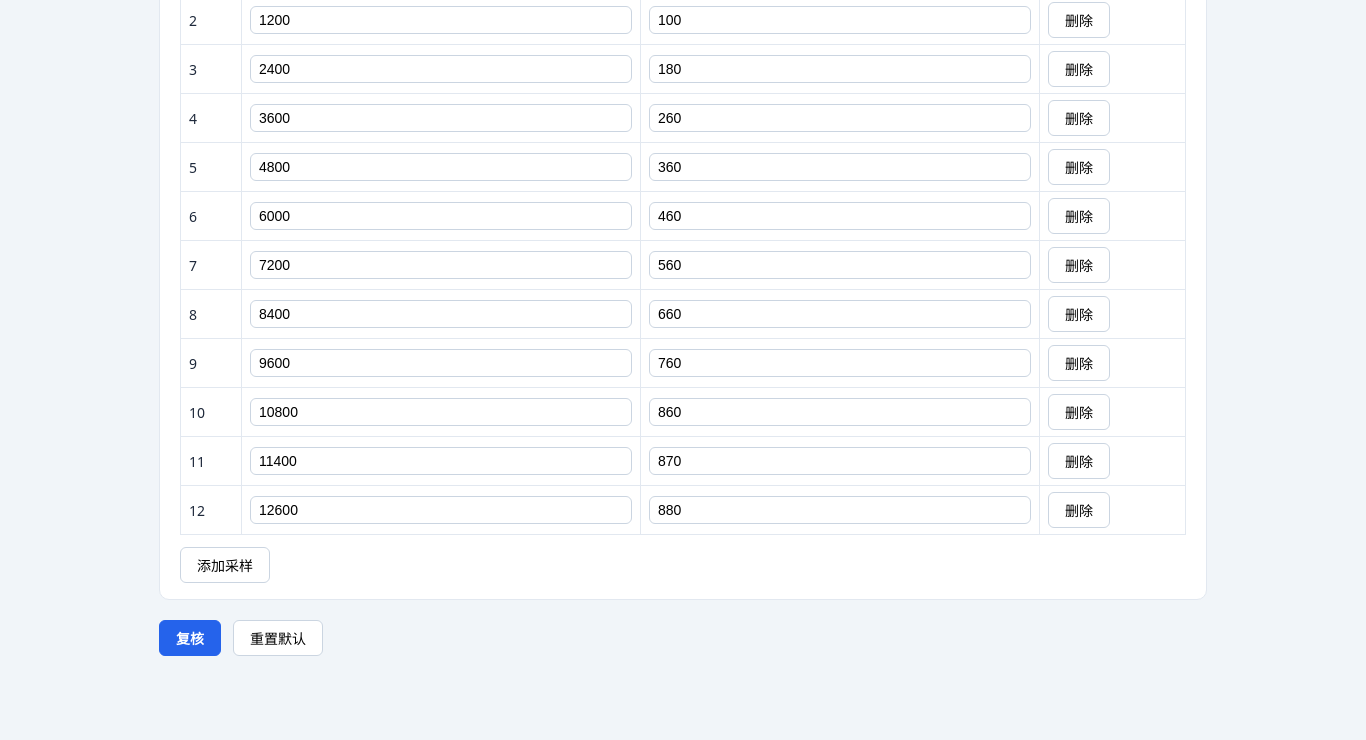
it: 热暴露复核 › 热暴露复核未返回时重新裁决：迟到的旧报告不覆盖新结果区
(page scrolled)
Click the button with test id "adjudicate-button" at [190, 638], box [159, 620, 221, 656]
(page scrolled)
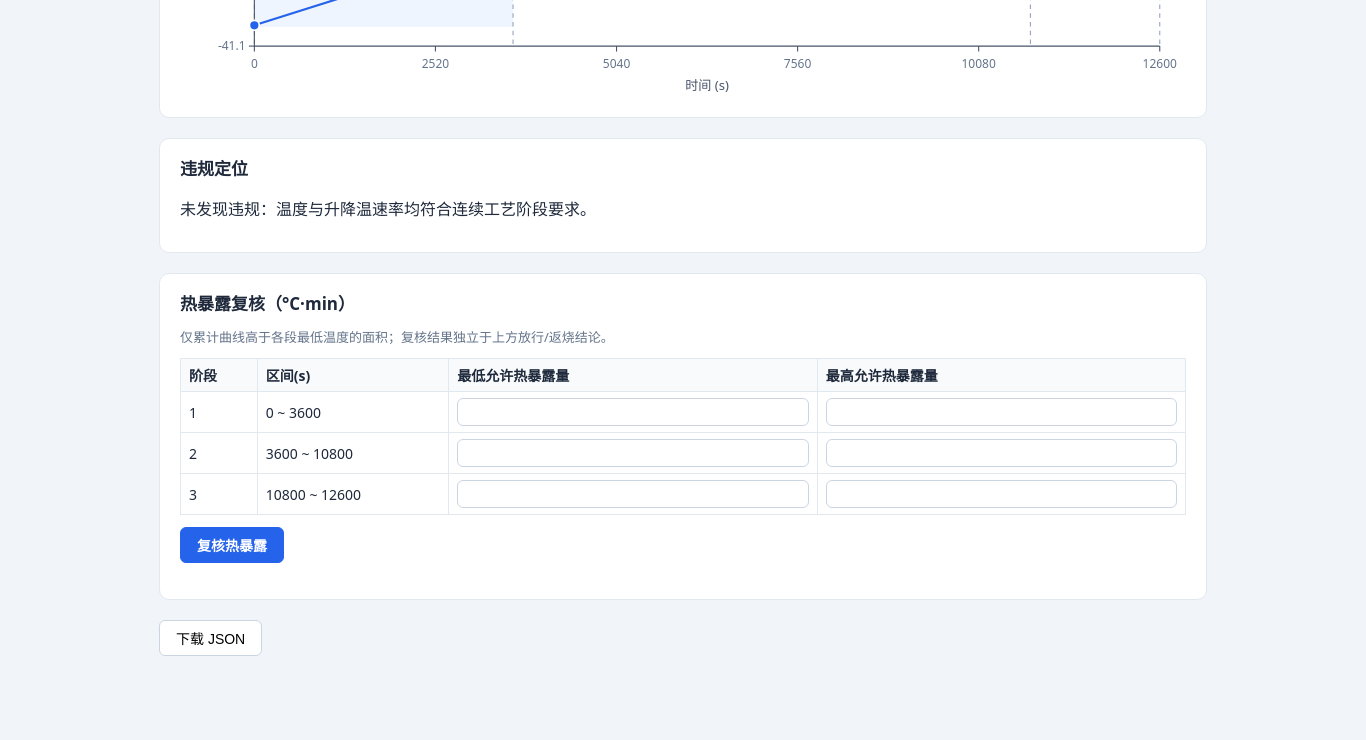
Click the button with test id "exposure-button" at [232, 545], box [180, 527, 284, 563]
(page scrolled)
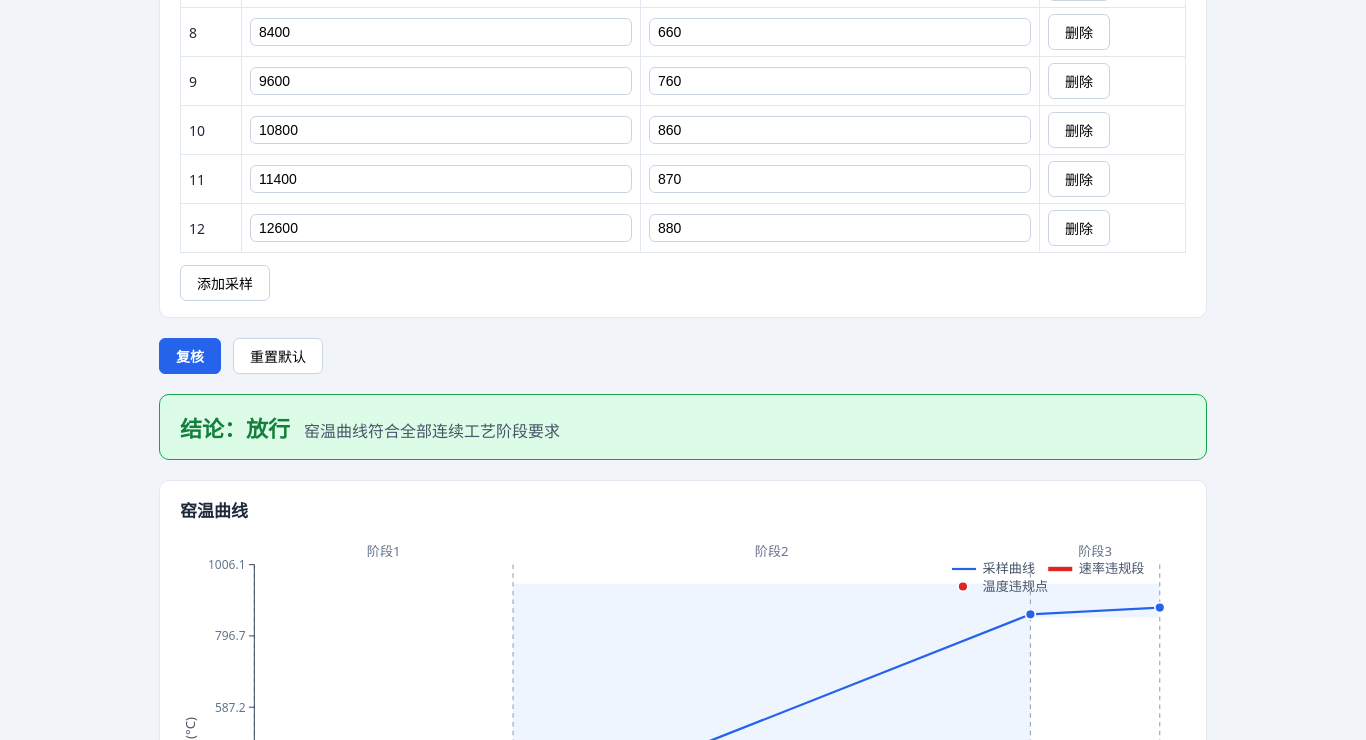
Click the button with test id "adjudicate-button" at [190, 356], box [159, 338, 221, 374]
(page scrolled)
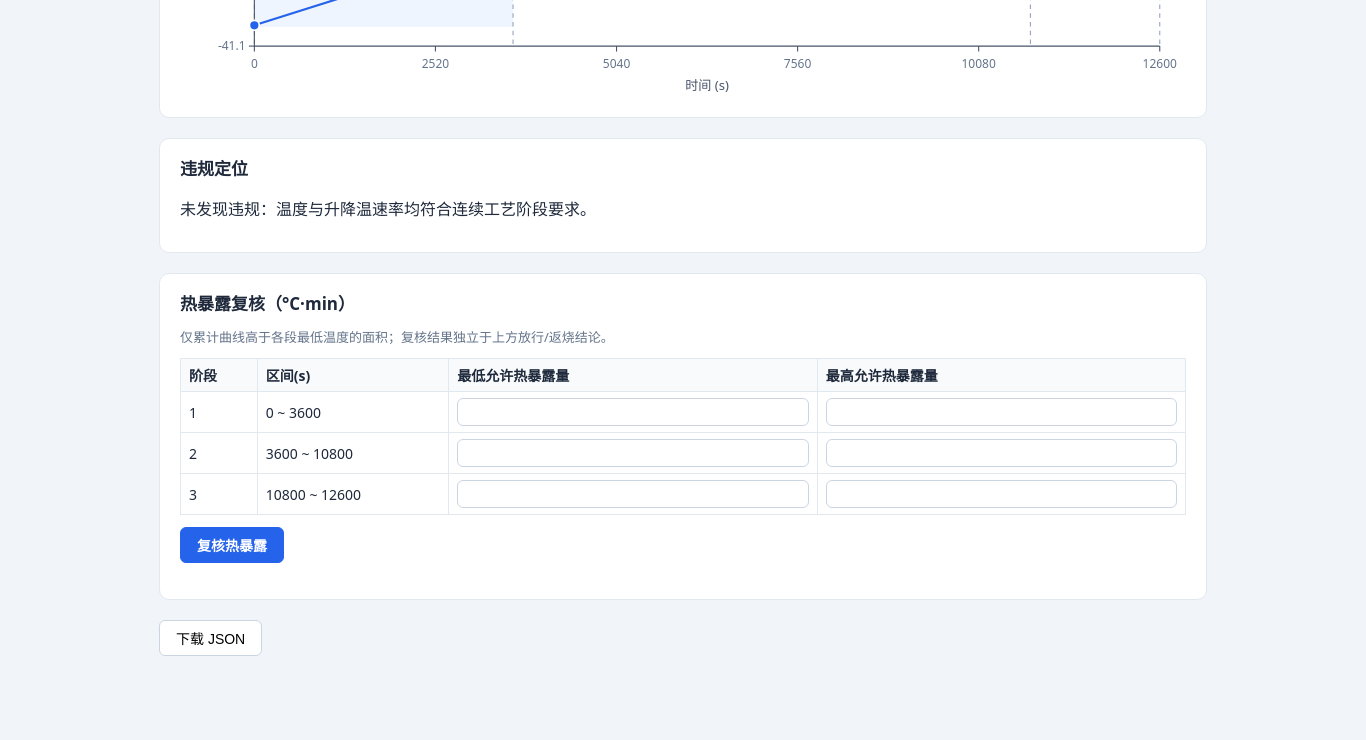
Expected: the button with test id "exposure-button" is enabled, [180, 527, 284, 563]
